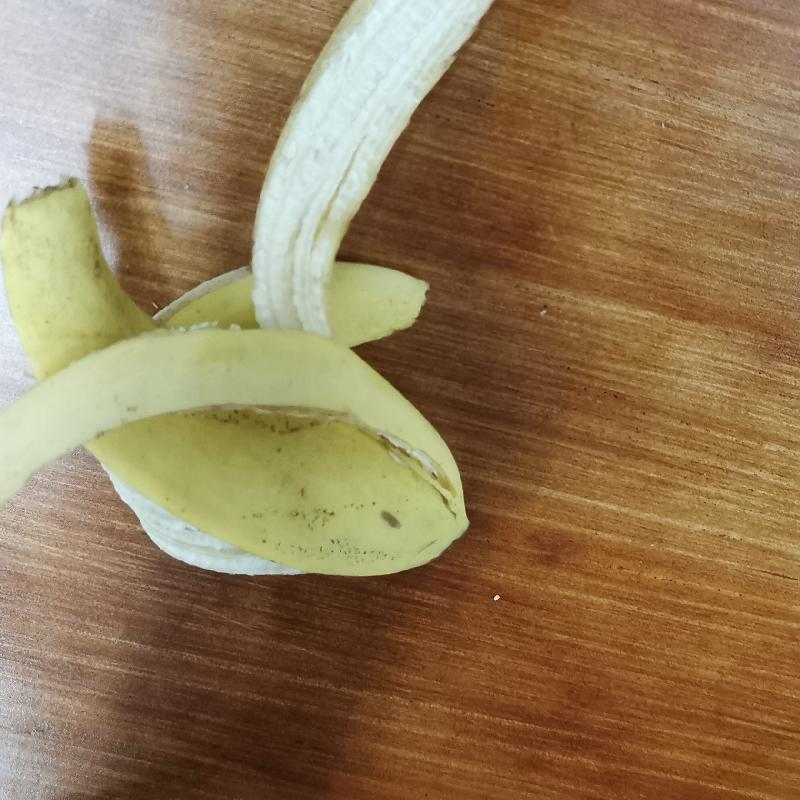bananas: (4, 3, 498, 581)
